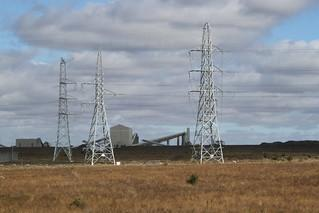power_tower: (184, 22, 231, 166), (81, 46, 123, 169), (50, 52, 77, 167)
